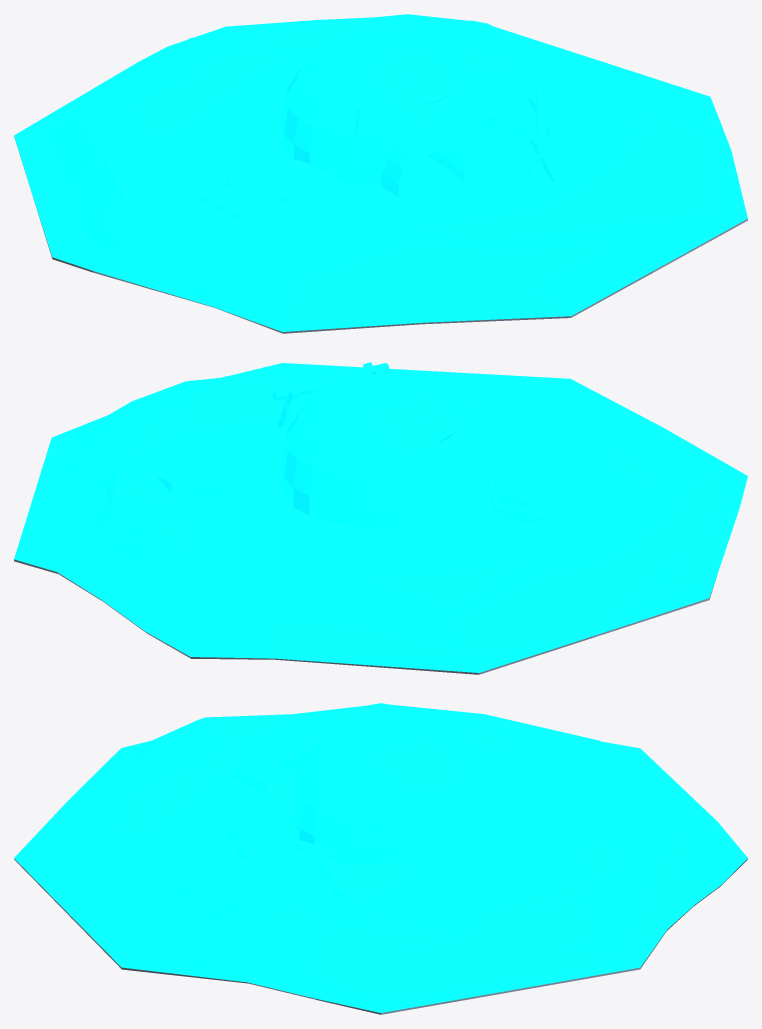
File: back_4_lp.fbx
The picture shows the model from 3 angles, top to bottom: view 1: azimuth 30°, elevation 25°; view 2: azimuth 150°, elevation 25°; view 3: azimuth 270°, elevation 25°; orthographic projection. The views are drawn at different scales.
Parts seen in each view (by area): view 1: back_4_lp; view 2: back_4_lp; view 3: back_4_lp.
Part boxes in pixels (left/top/right/bottom): back_4_lp: left=14, top=14, right=747, bottom=333; back_4_lp: left=14, top=362, right=747, bottom=674; back_4_lp: left=14, top=703, right=747, bottom=1014.
Bounding box in the file's own units: 782 × 151 × 782.
